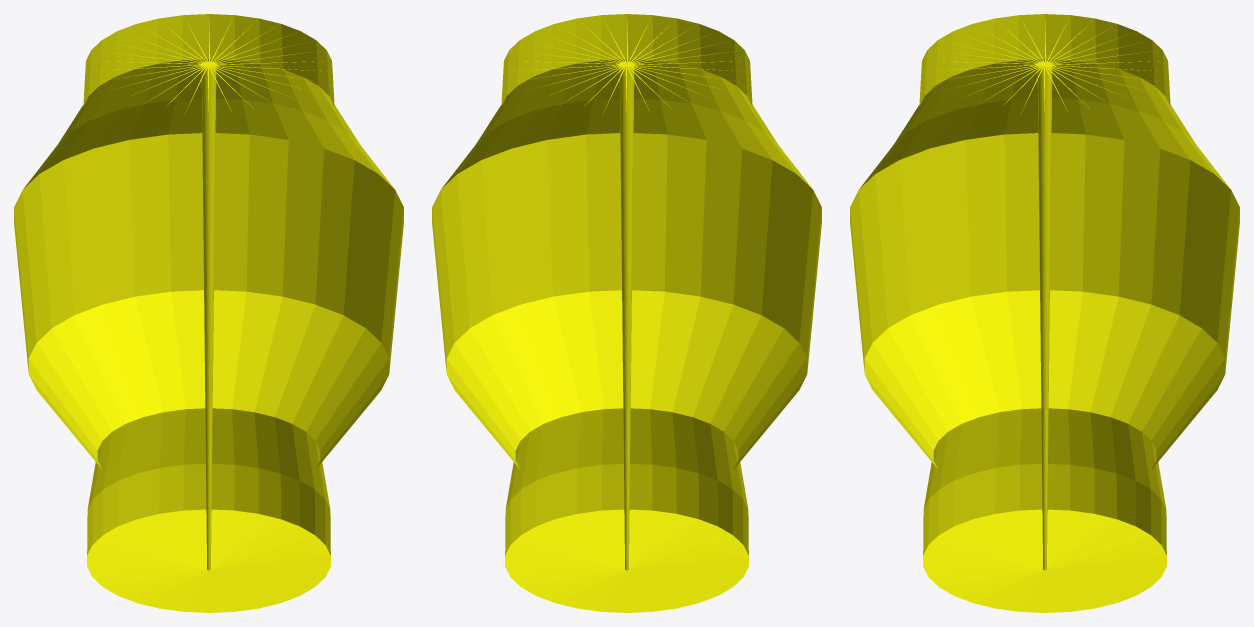
3 views of the same model, side by side, from view 1: azimuth 30°, elevation 25°; view 2: azimuth 150°, elevation 25°; view 3: azimuth 270°, elevation 25° (orthographic).
Parts seen in each view (by area): view 1: algeomath; view 2: algeomath; view 3: algeomath.
Part boxes in pixels (x1,y1,x2,y2): algeomath: (14, 14, 403, 612); algeomath: (432, 14, 821, 612); algeomath: (850, 14, 1239, 612).
Bounding box in the file's own units: 6.25 × 8.89 × 6.22.
Materials: 1 (1 with a texture image).
